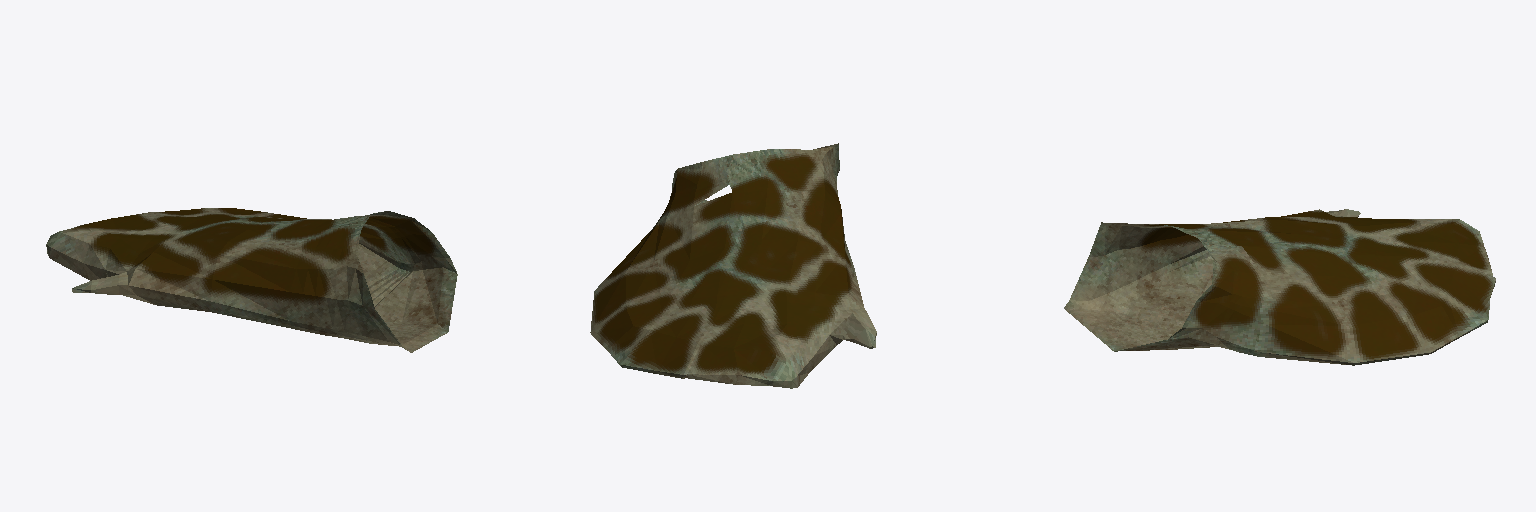
3 views of the same model, side by side, from view 1: azimuth 30°, elevation 25°; view 2: azimuth 150°, elevation 25°; view 3: azimuth 270°, elevation 25° (orthographic).
Visible parts, largest first — view 1: Object_4.2001_Turtle_Color; view 2: Object_4.2001_Turtle_Color; view 3: Object_4.2001_Turtle_Color.
Part boxes in pixels (bbox=[...]): Object_4.2001_Turtle_Color: bbox=[46, 208, 457, 352]; Object_4.2001_Turtle_Color: bbox=[590, 143, 876, 388]; Object_4.2001_Turtle_Color: bbox=[1064, 209, 1495, 365].
Bounding box in the file's own units: 46.76 × 16.79 × 60.22.
1 materials, 1 textured.